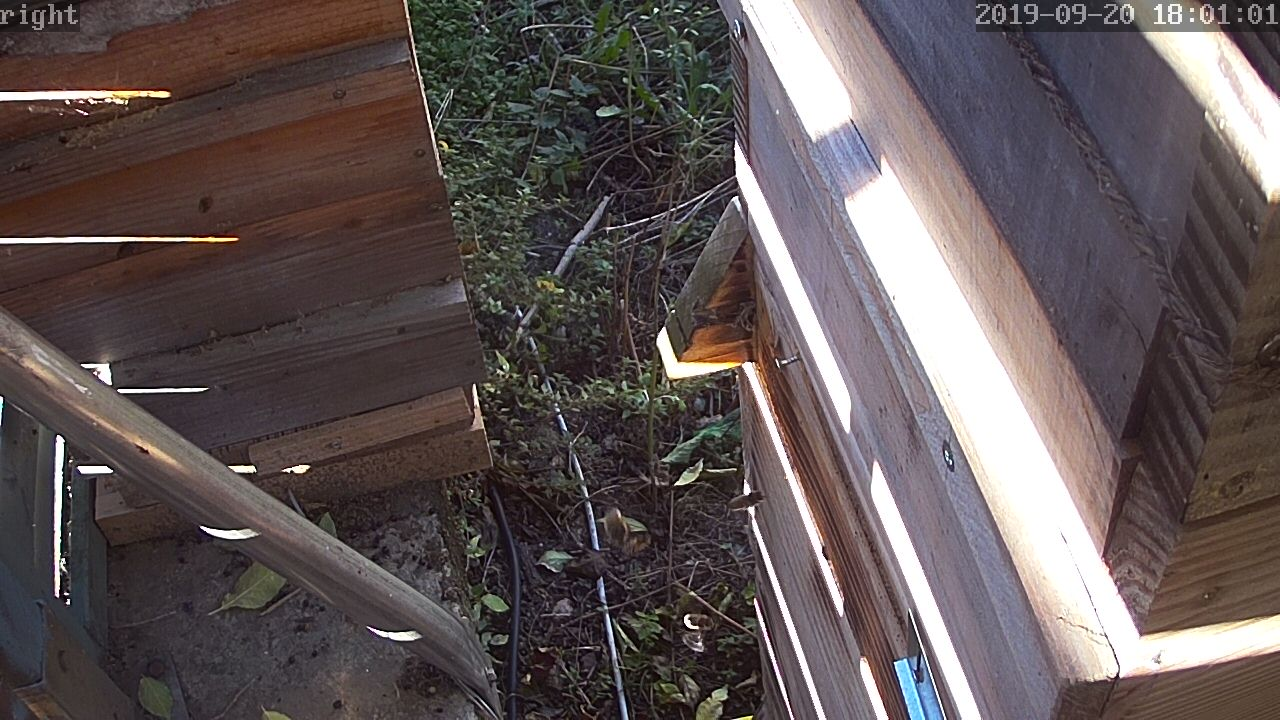bee: (726, 483, 765, 522)
